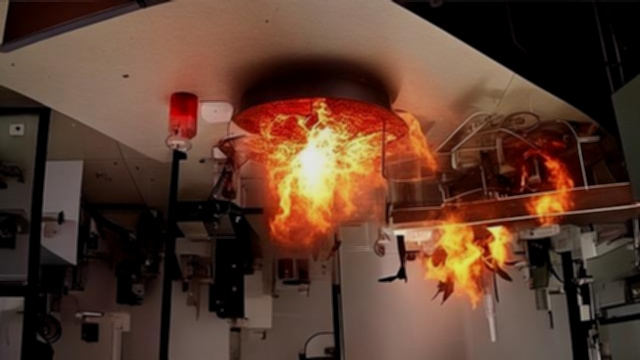fire: (222, 99, 407, 266), (412, 165, 598, 310)
